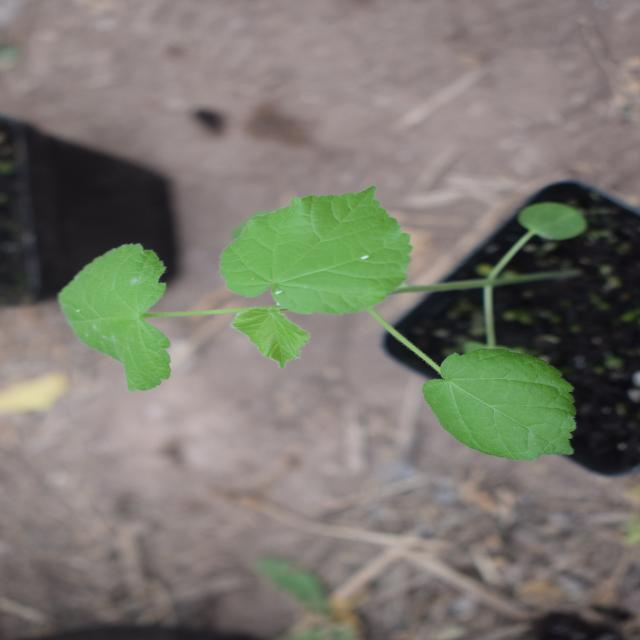abutilon theophrasti: (172, 40, 464, 582)
